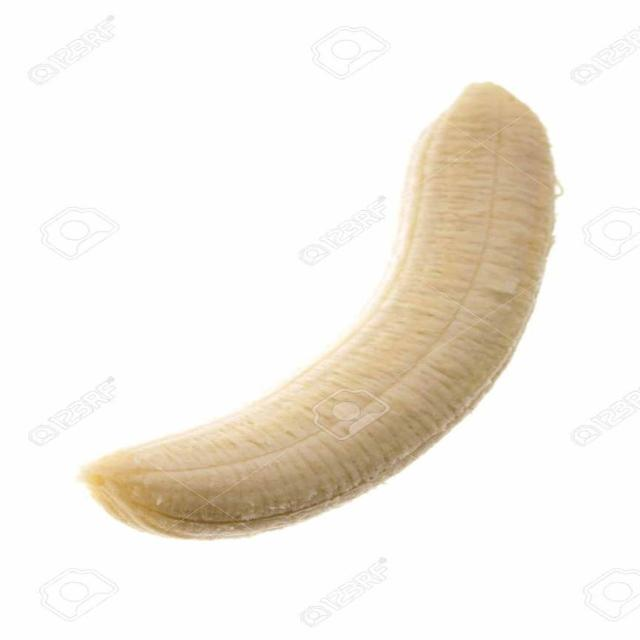banana: (84, 84, 554, 538)
